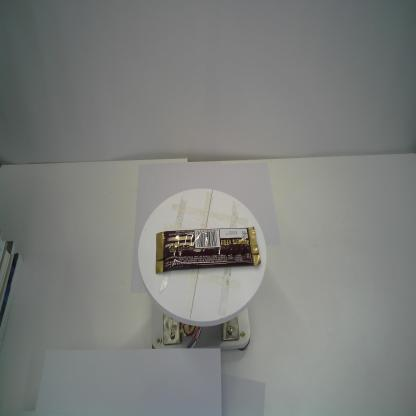Chocolate: (155, 225, 262, 274)
